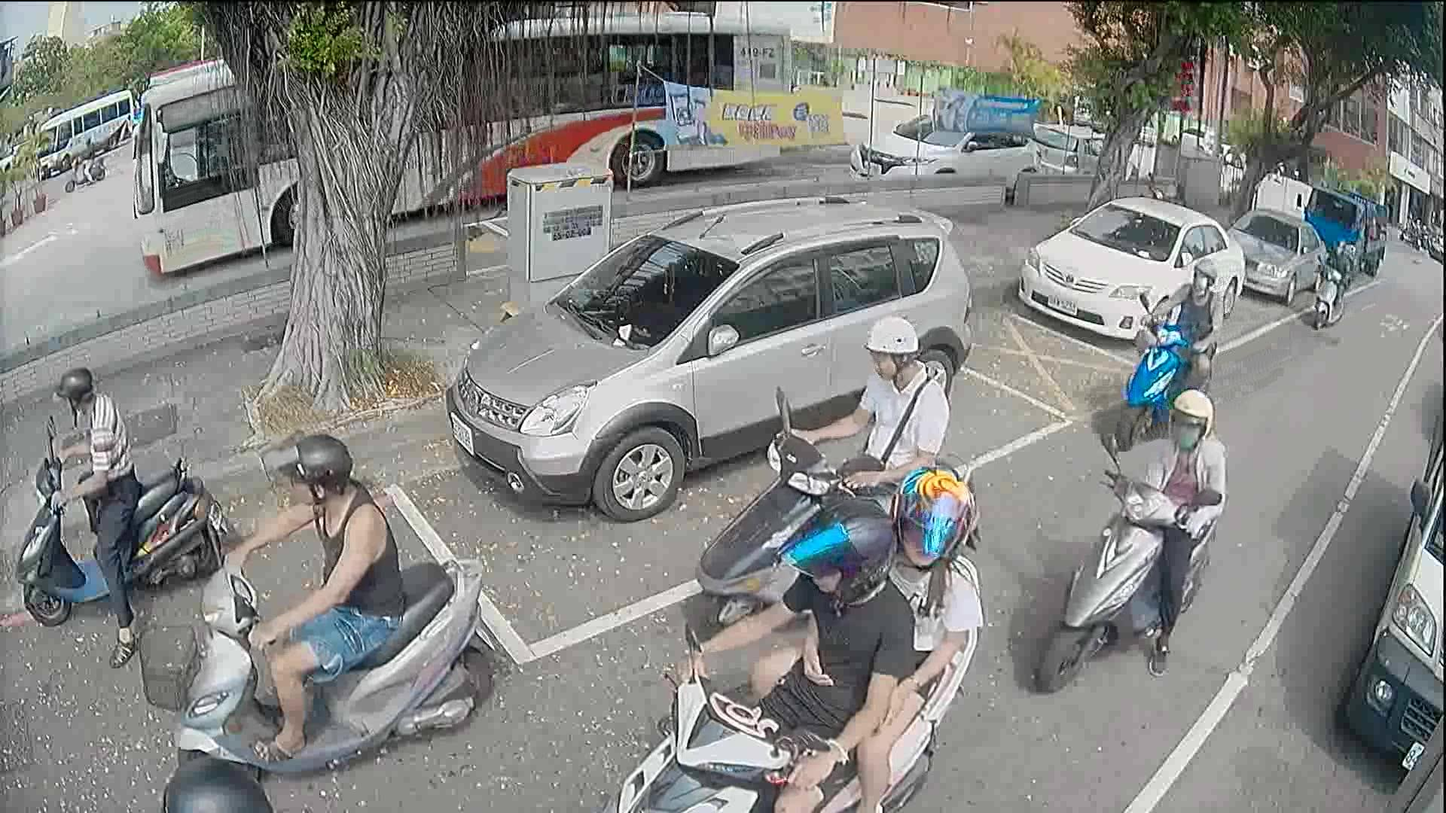person: (740, 455, 985, 812), (651, 497, 910, 812), (214, 423, 403, 769), (771, 303, 947, 502), (44, 358, 142, 659), (1130, 376, 1228, 676), (1139, 248, 1223, 406), (159, 748, 276, 811), (72, 135, 93, 186), (1327, 240, 1353, 274)
